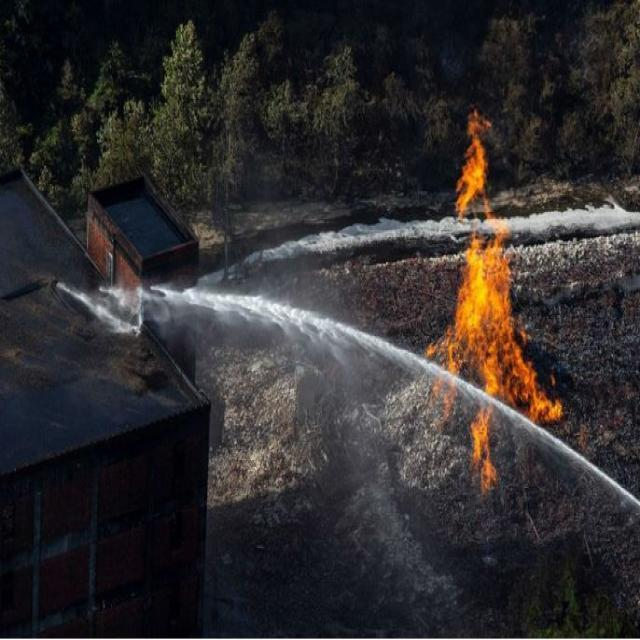Fire: (422, 332, 566, 423), (452, 228, 516, 332), (454, 109, 494, 225), (469, 424, 495, 492)
